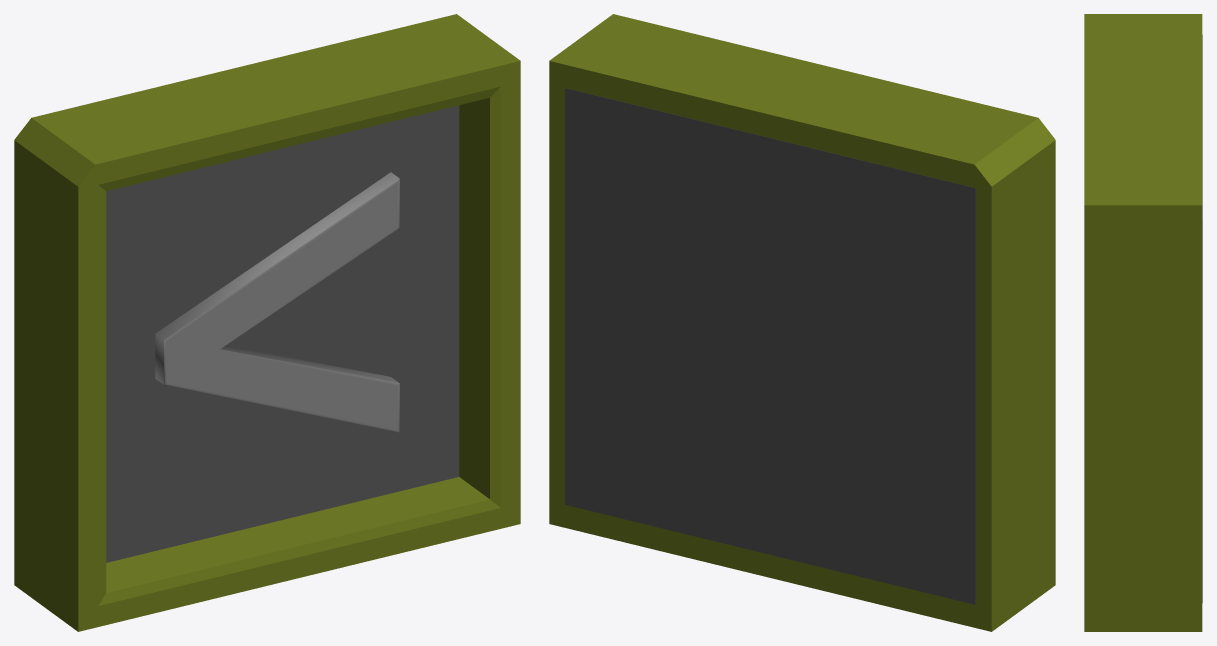
The model's file is buttons_left.glb.
3 renders of one model, left to right at view 1: azimuth 30°, elevation 25°; view 2: azimuth 150°, elevation 25°; view 3: azimuth 270°, elevation 25°, orthographic. The views are drawn at different scales.
Parts seen in each view (by area): view 1: Left, Cube.011; view 2: Cube.011, Left; view 3: Left, Cube.011.
Boxes of the visible parts, box(x1,y1,x2,y2) form: Left: box(14, 14, 520, 631); Cube.011: box(106, 105, 459, 562); Cube.011: box(565, 88, 975, 604); Left: box(549, 14, 1055, 631); Left: box(1084, 14, 1202, 631); Cube.011: box(1202, 35, 1202, 602).
Bounding box in the file's own units: 3.99 × 3.99 × 1.
